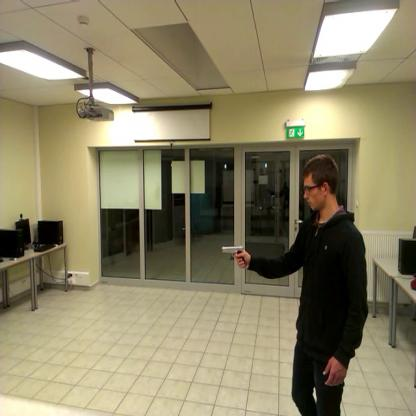Pistol: (217, 242, 247, 275)
